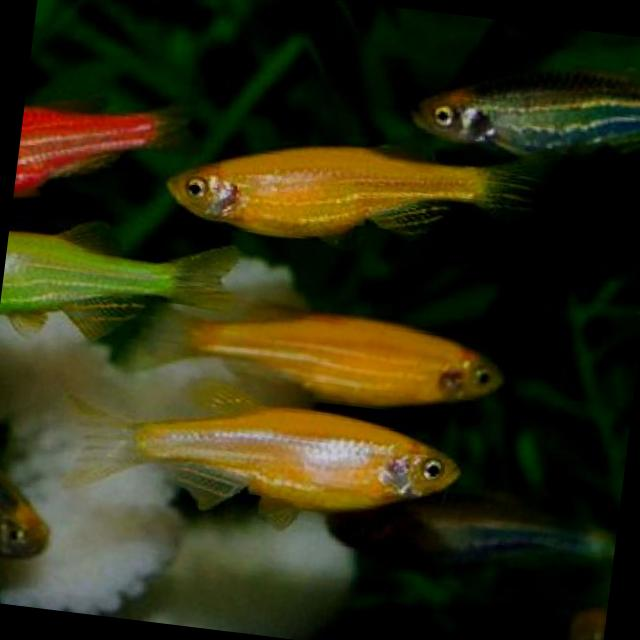ZebraFish: (54, 358, 468, 546), (157, 103, 566, 274)
